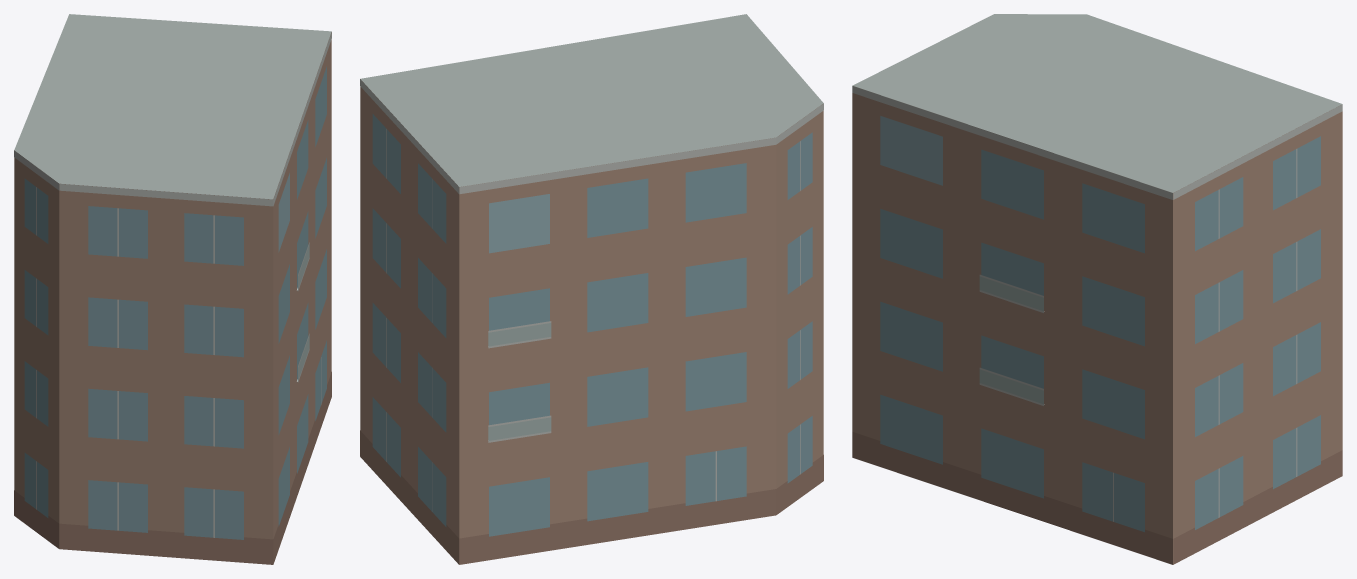
File: survey-upis-32990571.glb
3 views of the same model, side by side, from view 1: azimuth 30°, elevation 25°; view 2: azimuth 150°, elevation 25°; view 3: azimuth 270°, elevation 25° (orthographic). The views are drawn at different scales.
Visible parts, largest first — view 1: survey-upis-32990571.tmp; view 2: survey-upis-32990571.tmp; view 3: survey-upis-32990571.tmp.
Boxes of the visible parts, box(x1,y1,x2,y2) form: survey-upis-32990571.tmp: box(14, 14, 331, 564); survey-upis-32990571.tmp: box(360, 14, 823, 564); survey-upis-32990571.tmp: box(852, 14, 1342, 564).
Bounding box in the file's own units: 13.12 × 12.7 × 15.19.
